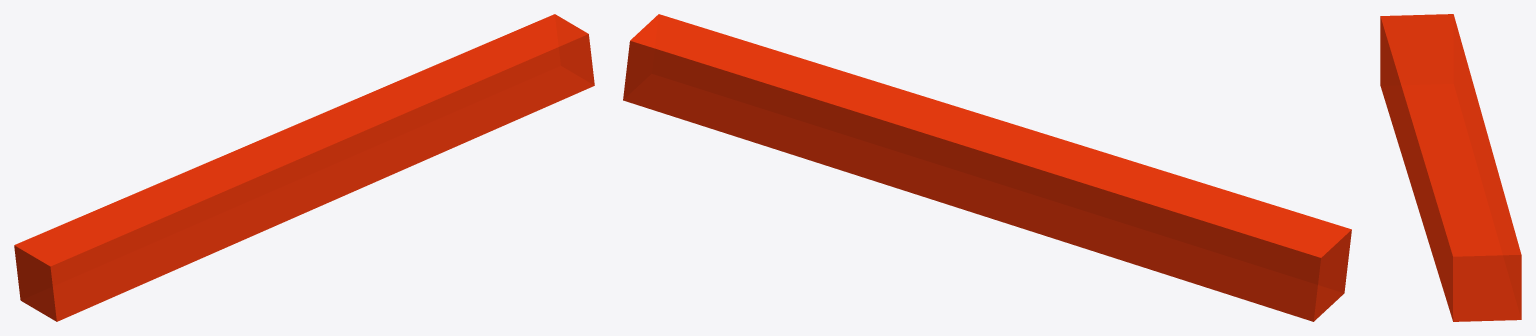
File: Event_421115418_EErechit_56.fbx
The picture shows the model from 3 angles, left to right: view 1: azimuth 30°, elevation 25°; view 2: azimuth 150°, elevation 25°; view 3: azimuth 270°, elevation 25°; orthographic projection. The views are drawn at different scales.
Visible parts, largest first — view 1: Model; view 2: Model; view 3: Model.
Boxes of the visible parts, x1,y1,x2,y2 form: Model: (14, 14, 594, 321); Model: (623, 14, 1351, 321); Model: (1380, 14, 1521, 321).
Bounding box in the file's own units: 0.8222 × 0.1735 × 0.1492.
